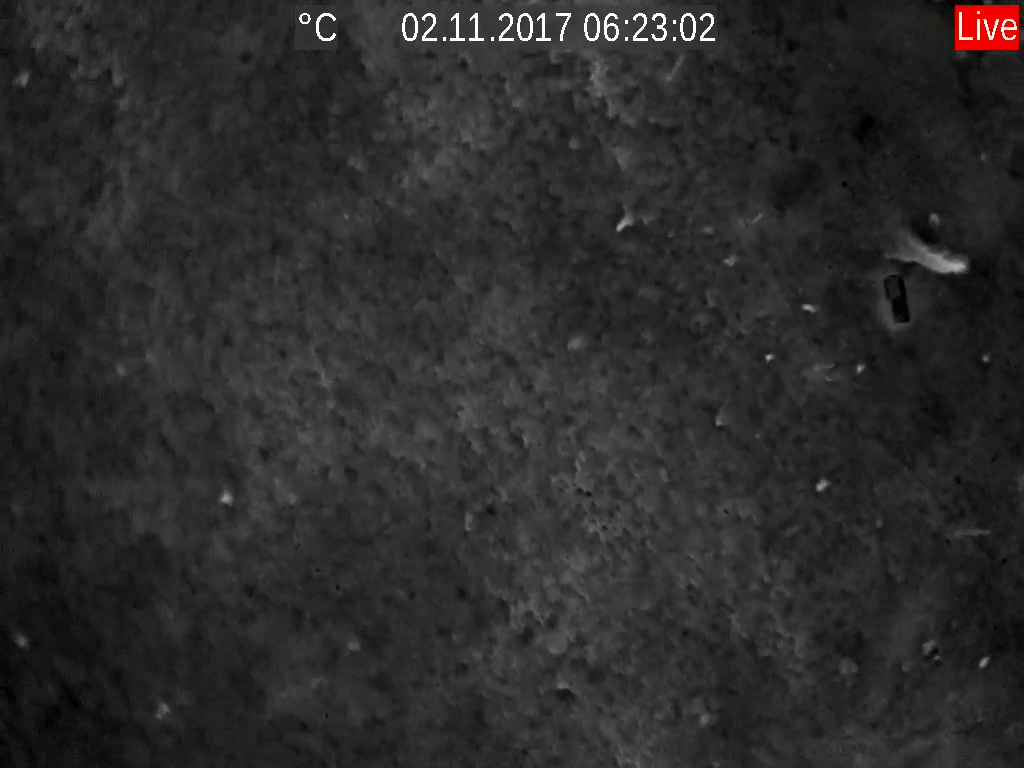warren: (883, 216, 972, 279), (949, 523, 996, 545), (809, 464, 831, 496), (610, 208, 633, 236), (799, 298, 820, 314)
